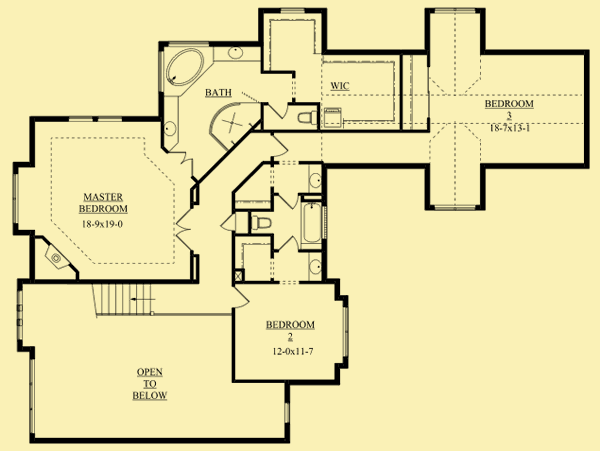door: (173, 208, 197, 252), (165, 149, 196, 175), (268, 132, 291, 156), (277, 190, 299, 215), (230, 283, 250, 310), (275, 235, 302, 254), (265, 101, 291, 120), (220, 211, 237, 232)
large_sink: (252, 213, 273, 233), (296, 109, 316, 126)
small_sink: (161, 96, 179, 151), (211, 46, 262, 64), (307, 251, 324, 281), (304, 164, 321, 192)
stairs: (89, 283, 156, 317)
tub: (162, 47, 215, 98), (299, 202, 325, 250)
window: (11, 172, 21, 223), (342, 305, 351, 360), (432, 204, 476, 213), (431, 6, 474, 15), (283, 402, 293, 426)
